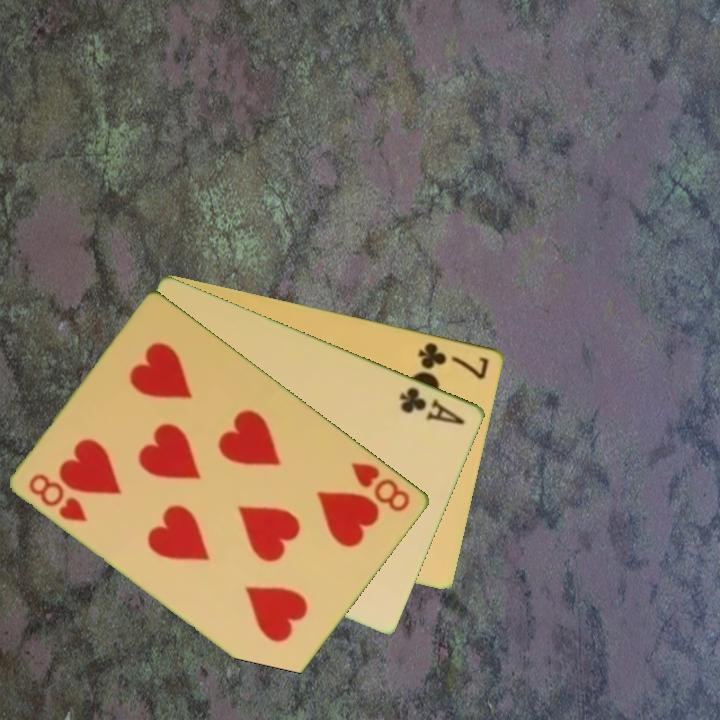7c: (415, 338, 493, 382)
8h: (348, 458, 414, 515), (25, 469, 91, 525)
Ac: (396, 383, 468, 428)
